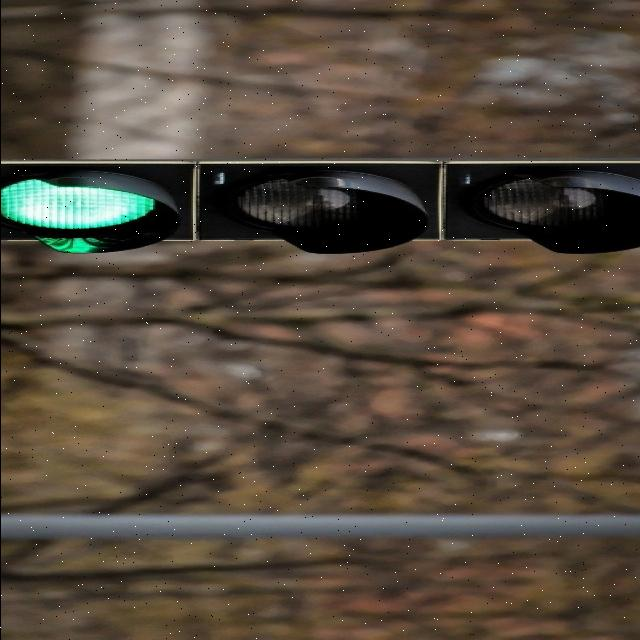green: (5, 162, 635, 240)
